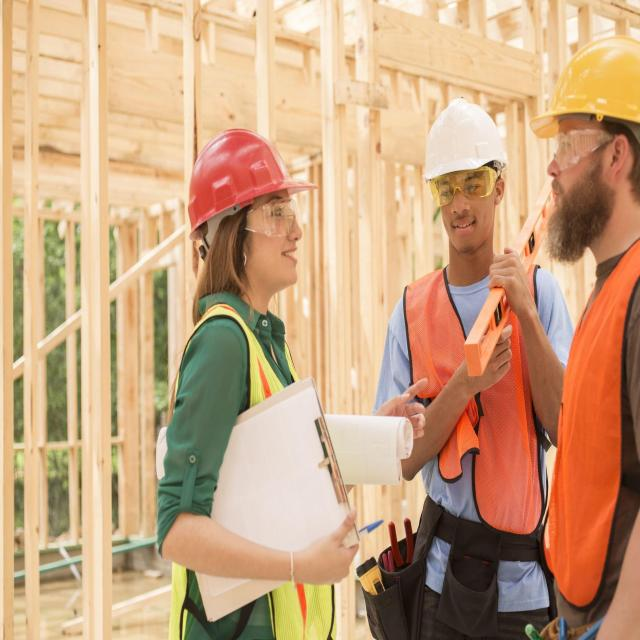Reflective-Jacket: (158, 307, 344, 640), (401, 252, 544, 537), (545, 218, 640, 618)
Safety-Helmet: (179, 118, 314, 240), (528, 29, 640, 151), (419, 92, 511, 186)
